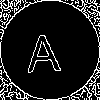A: (25, 25, 62, 72)
